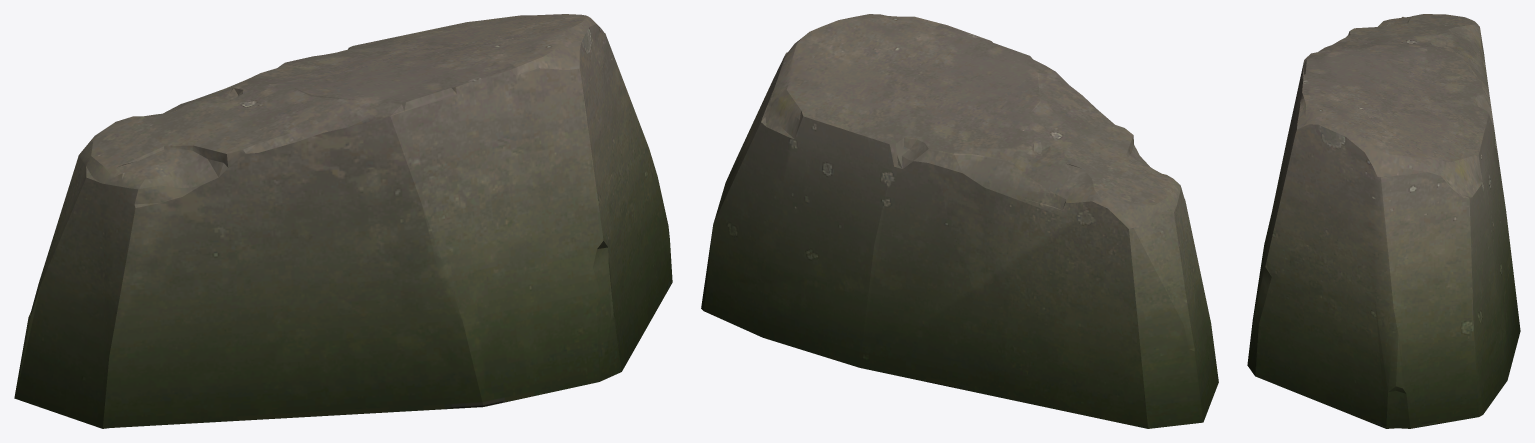
Rendered from riveredge_rock003a.glb.
The picture shows the model from 3 angles, left to right: view 1: azimuth 30°, elevation 25°; view 2: azimuth 150°, elevation 25°; view 3: azimuth 270°, elevation 25°; orthographic projection. The views are drawn at different scales.
Visible parts, largest first — view 1: models\props_rock\riveredge_rock003a.vmdl_c.riveredge_rock00; view 2: models\props_rock\riveredge_rock003a.vmdl_c.riveredge_rock00; view 3: models\props_rock\riveredge_rock003a.vmdl_c.riveredge_rock00.
Boxes of the visible parts, x1,y1,x2,y2 form: models\props_rock\riveredge_rock003a.vmdl_c.riveredge_rock00: (14,14,672,428); models\props_rock\riveredge_rock003a.vmdl_c.riveredge_rock00: (701,14,1218,428); models\props_rock\riveredge_rock003a.vmdl_c.riveredge_rock00: (1247,14,1520,428).
Bounding box in the file's own units: 9.12 × 4.34 × 4.24.
Materials: 1 (1 with a texture image).
